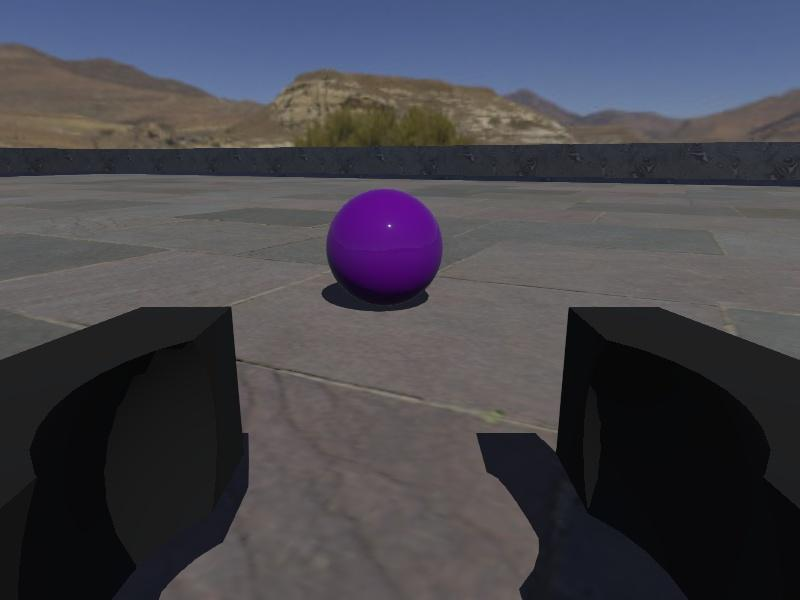violet ball: (326, 188, 443, 306)
